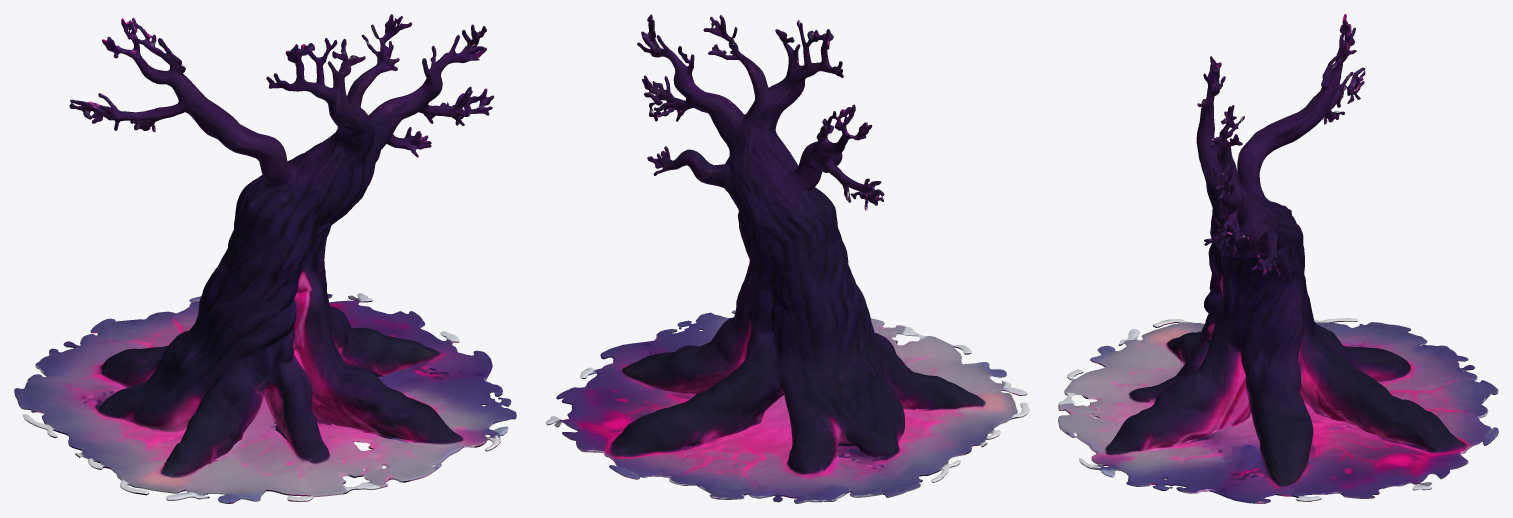
The model's file is sea-root-sw-generated-2026-05-17T19-49-55-517Z.high.glb.
The picture shows the model from 3 angles, left to right: view 1: azimuth 30°, elevation 25°; view 2: azimuth 150°, elevation 25°; view 3: azimuth 270°, elevation 25°; orthographic projection. The views are drawn at different scales.
Visible parts, largest first — view 1: temp_mesh.ply; view 2: temp_mesh.ply; view 3: temp_mesh.ply.
Boxes of the visible parts, x1=… form: temp_mesh.ply: x1=14, y1=14, x2=516, y2=503; temp_mesh.ply: x1=545, y1=14, x2=1029, y2=503; temp_mesh.ply: x1=1058, y1=14, x2=1498, y2=503.
Bounding box in the file's own units: 1.95 × 1.74 × 1.97.
1 material, 1 textured.
